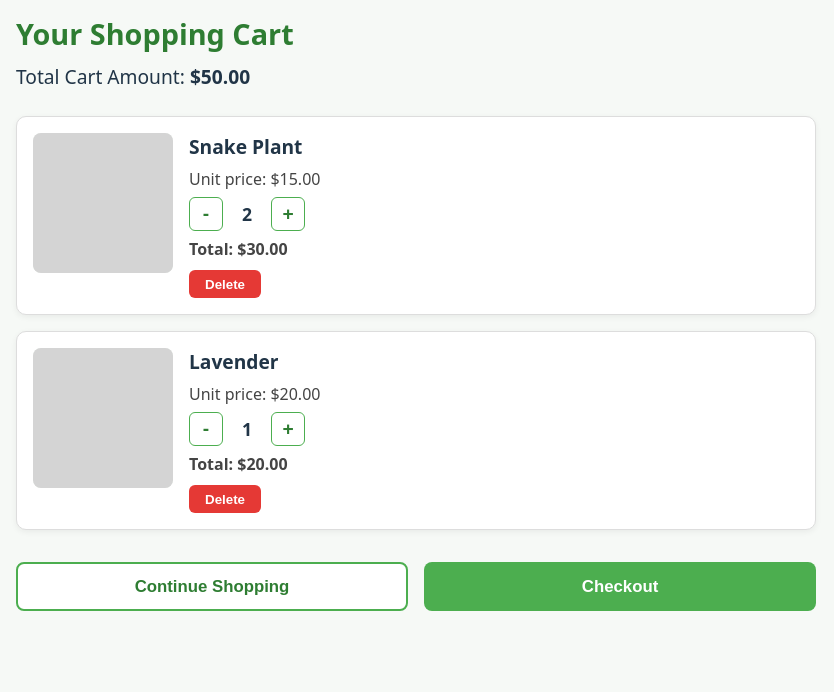
Scenario: CartItem › shows a coming soon message on checkout
Click the button "Checkout" at (620, 587), box [424,562,816,612]
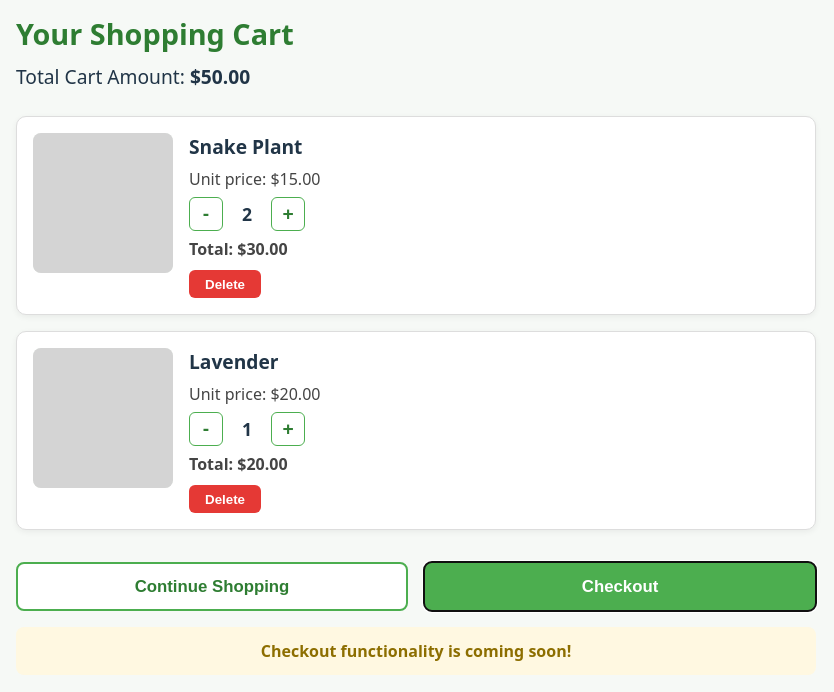
Check: the message shows "coming soon", box [261,640,571,662]
